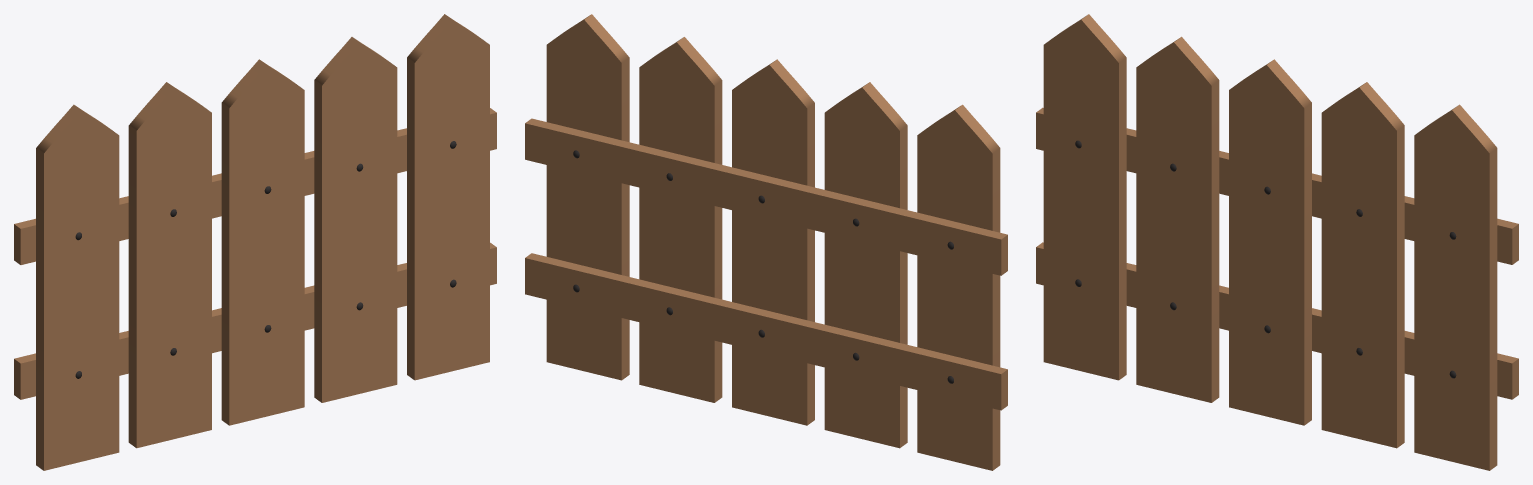
File: Fence.fbx
The picture shows the model from 3 angles, left to right: view 1: azimuth 30°, elevation 25°; view 2: azimuth 150°, elevation 25°; view 3: azimuth 330°, elevation 25°; orthographic projection.
Parts seen in each view (by area): view 1: pSphere31; view 2: pSphere31; view 3: pSphere31.
Boxes of the visible parts, <box> form: pSphere31: <box>14,14,496,470</box>; pSphere31: <box>525,14,1007,470</box>; pSphere31: <box>1036,14,1518,470</box>.
Bounding box in the file's own units: 7.46 × 5.26 × 0.4423.
